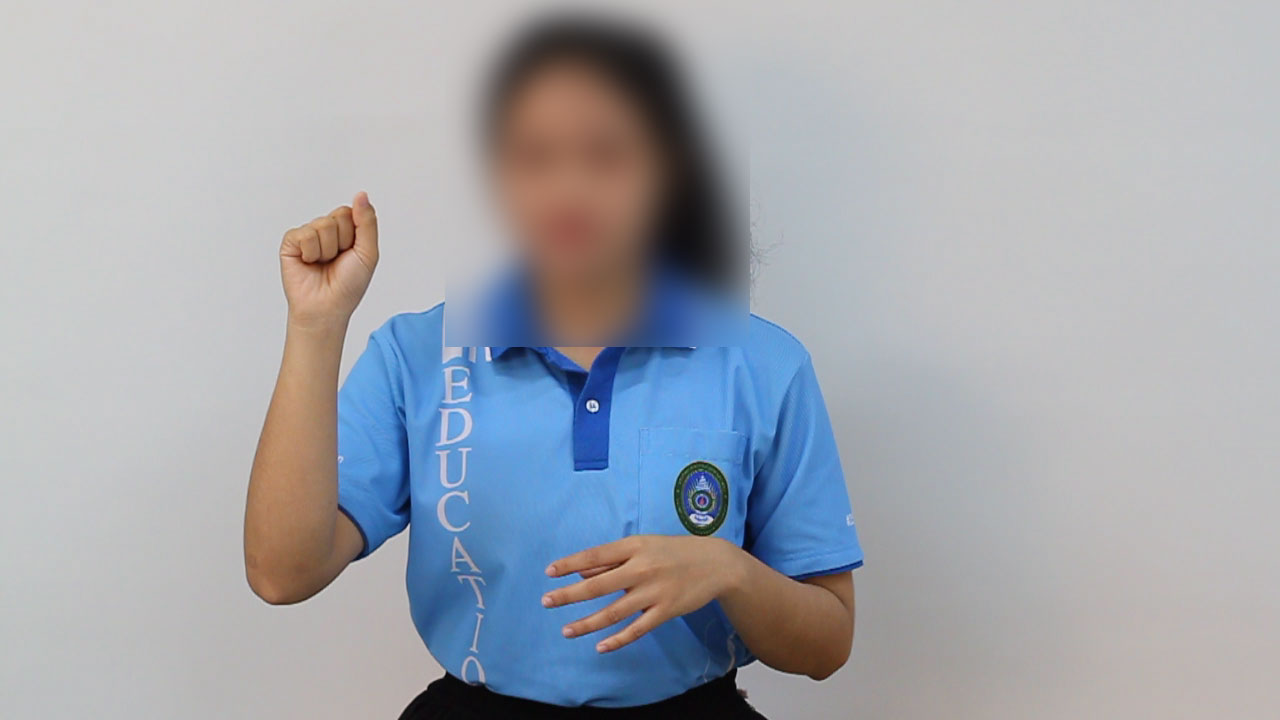sor: (264, 175, 391, 334)
